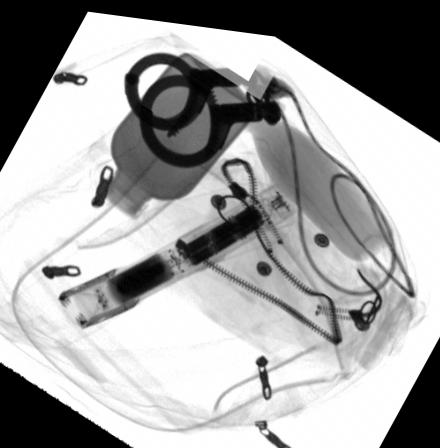Baton: (55, 176, 298, 330)
HandCuffs: (123, 47, 283, 165)
